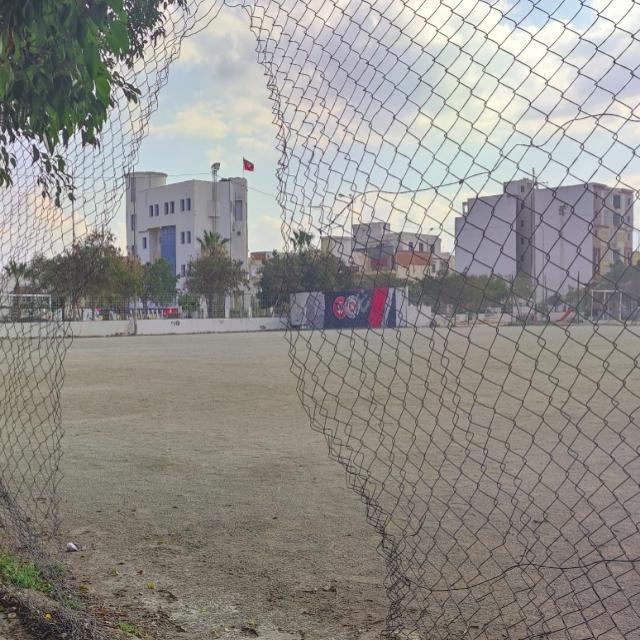fence line: (57, 60, 409, 623)
